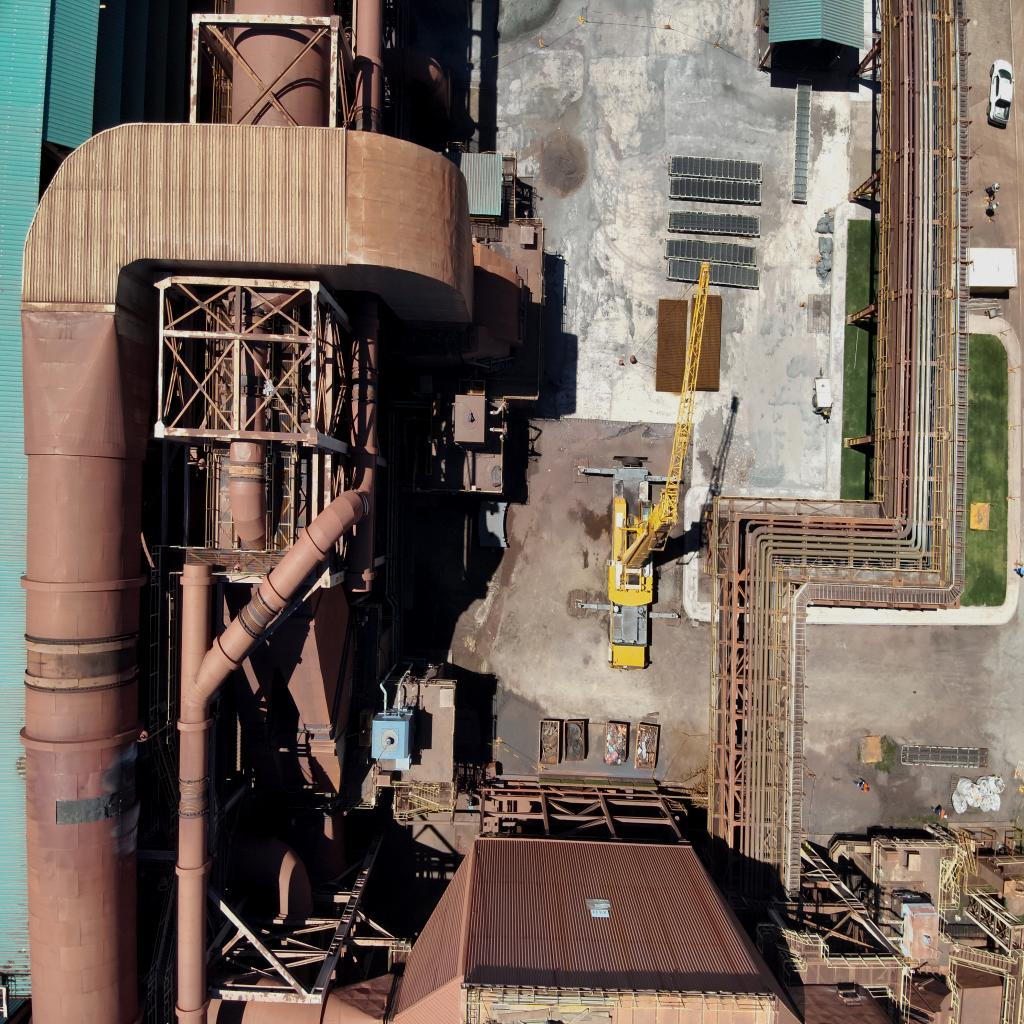Failures: (55, 762, 142, 832)
